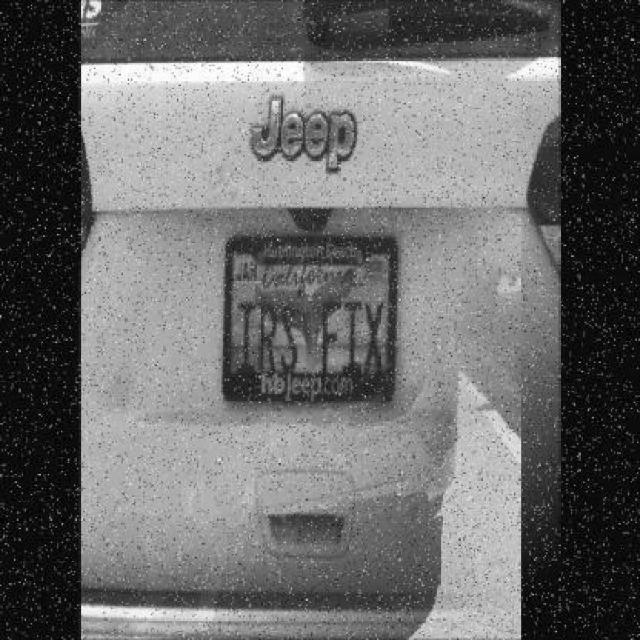licenseplate: (224, 233, 395, 402)
